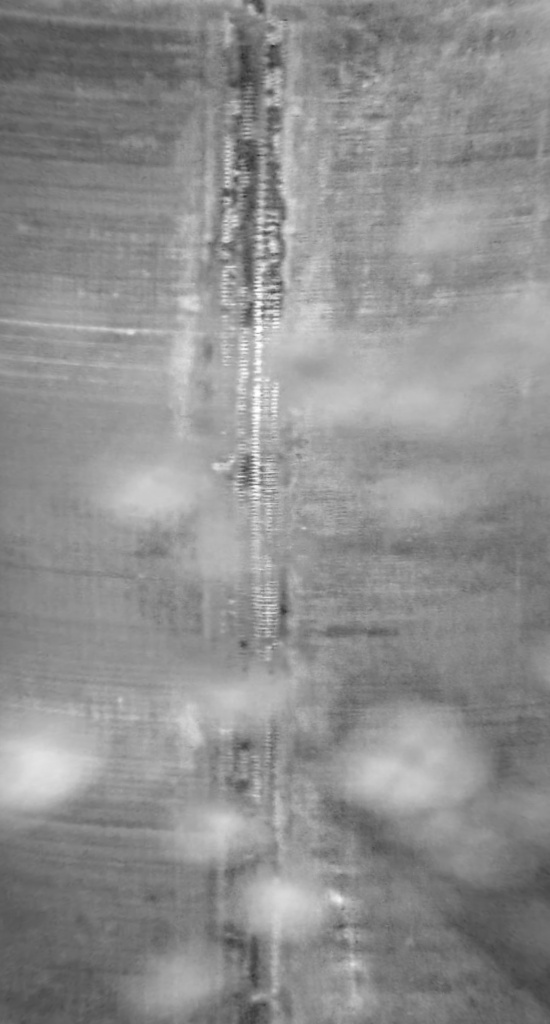splice: (212, 1, 309, 1023)
